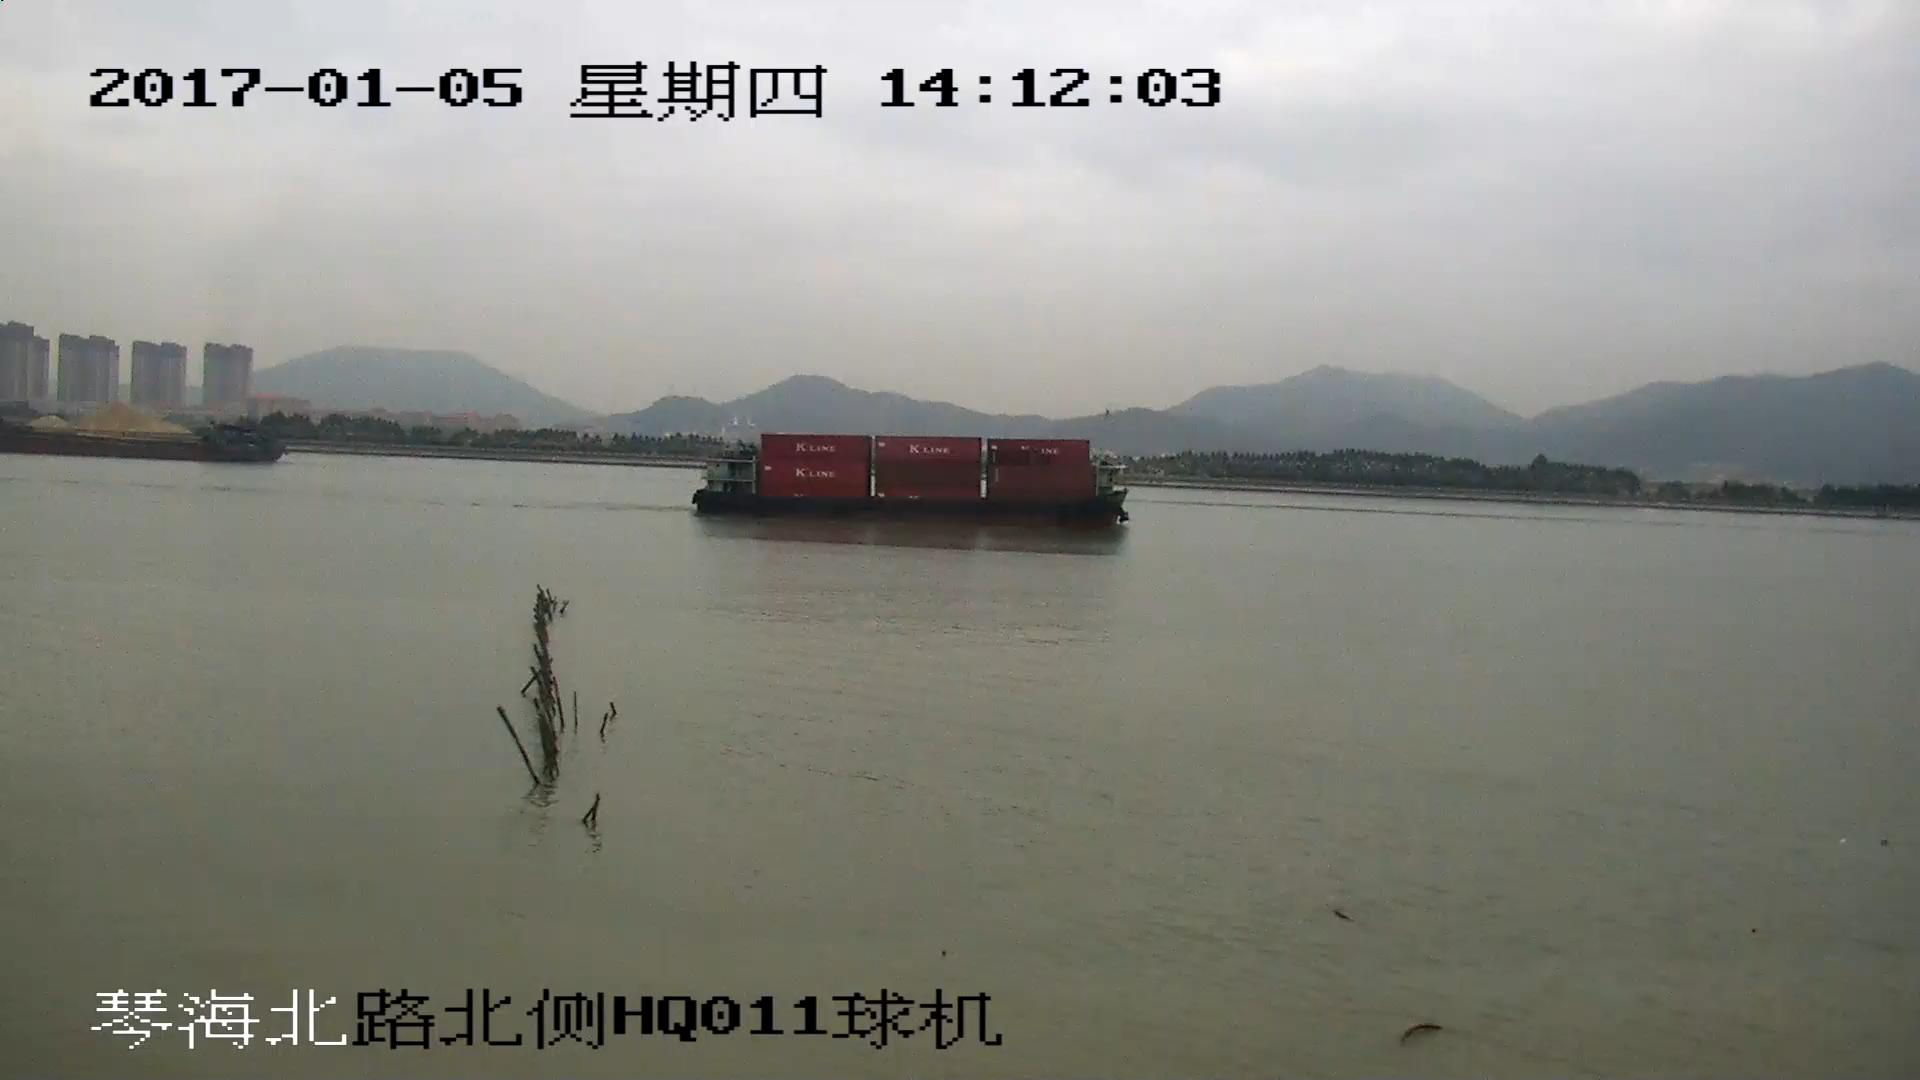bulk cargo carrier: (1, 424, 285, 463)
container ship: (690, 431, 1125, 531)
